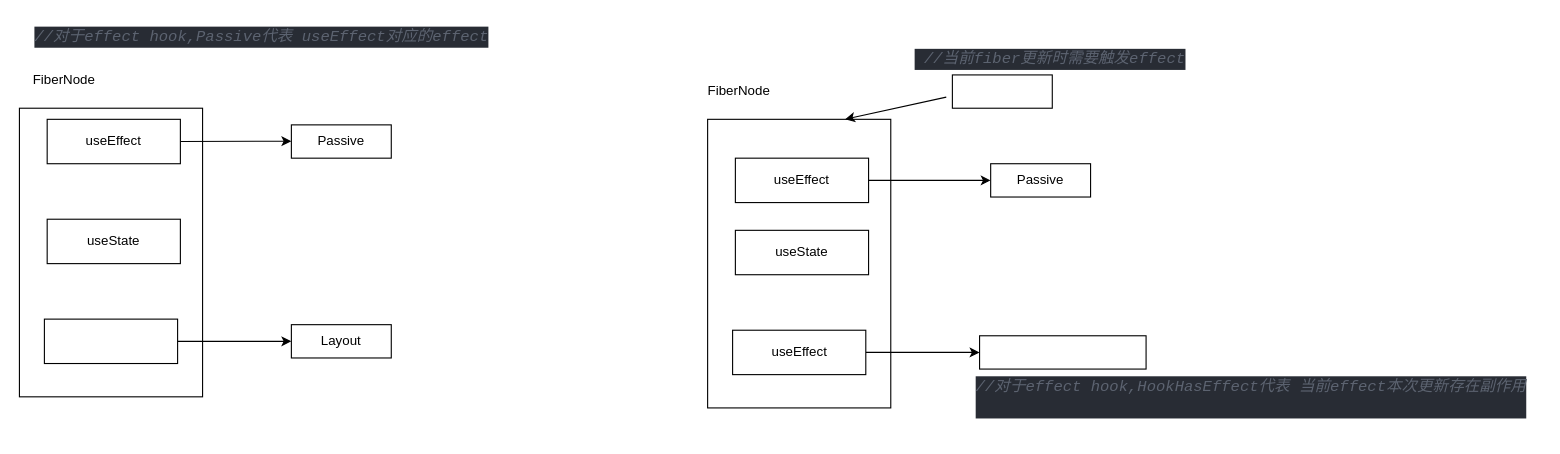
The diagram is 1560 pixels wide and 454 high, and some of its shapes have lost their labels. The shapes that lost their labels are listed below. From the top down, each one's centre as x and y in pixels, then its label:
point 1001,91: PassiveEffect
point 110,341: useLayoutEffect
point 1062,352: Passive|HookHasEffect
